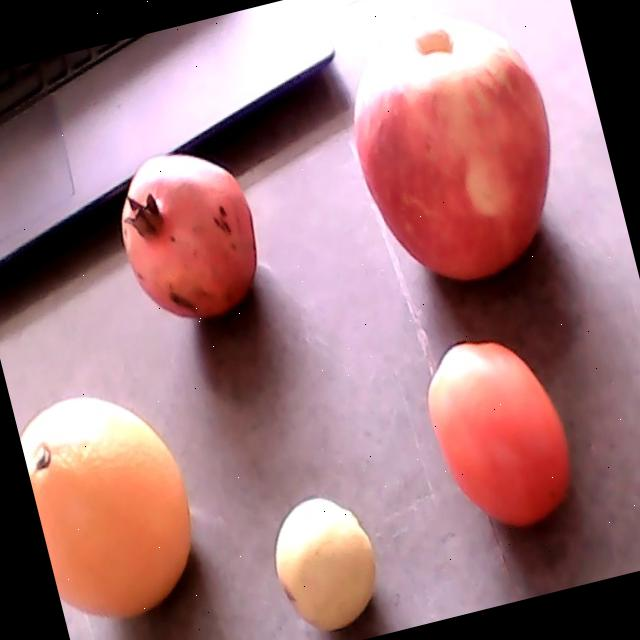apple: (353, 15, 550, 281)
lemon: (275, 496, 376, 630)
orange: (19, 395, 192, 617)
pomegranate: (120, 153, 257, 317)
tomato: (428, 341, 570, 527)
